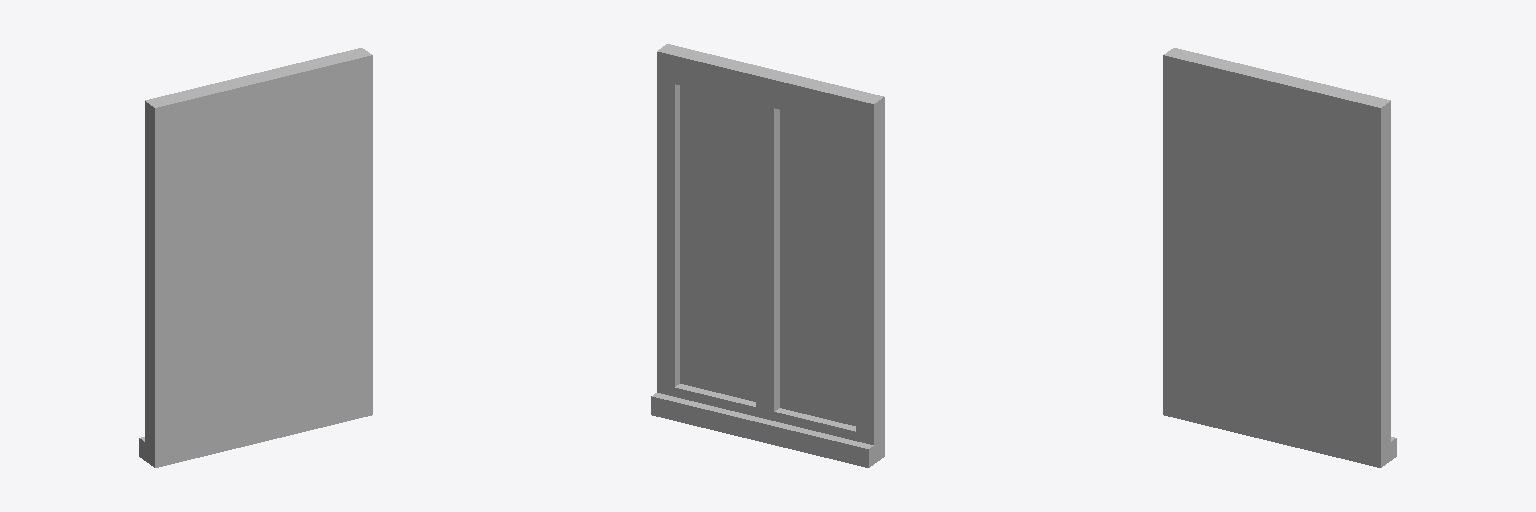
File: janela_quadrada.obj
The picture shows the model from 3 angles: view 1: azimuth 30°, elevation 25°; view 2: azimuth 150°, elevation 25°; view 3: azimuth 330°, elevation 25°; orthographic projection.
Parts seen in each view (by area): view 1: janela_quadrada; view 2: janela_quadrada; view 3: janela_quadrada.
Part boxes in pixels (left/top/right/bottom): janela_quadrada: left=139, top=48, right=372, bottom=467; janela_quadrada: left=651, top=44, right=884, bottom=467; janela_quadrada: left=1163, top=48, right=1396, bottom=467.
Size of the model in its own units: 24 by 38 by 3.